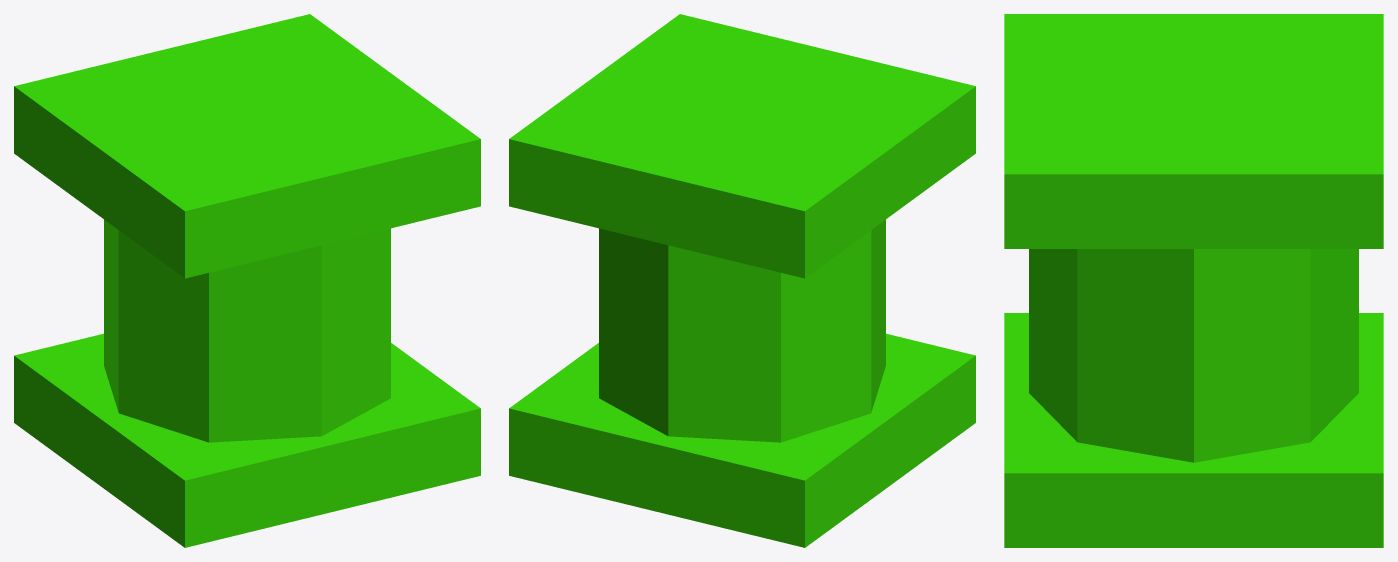
Rendered from column1.fbx.
The picture shows the model from 3 angles, left to right: view 1: azimuth 30°, elevation 25°; view 2: azimuth 150°, elevation 25°; view 3: azimuth 270°, elevation 25°; orthographic projection. The views are drawn at different scales.
Visible parts, largest first — view 1: column1; view 2: column1; view 3: column1.
Boxes of the visible parts, x1=… form: column1: x1=14, y1=14, x2=480, y2=547; column1: x1=509, y1=14, x2=975, y2=547; column1: x1=1004, y1=14, x2=1383, y2=547.
Size of the model in its own units: 92 by 100 by 92.
